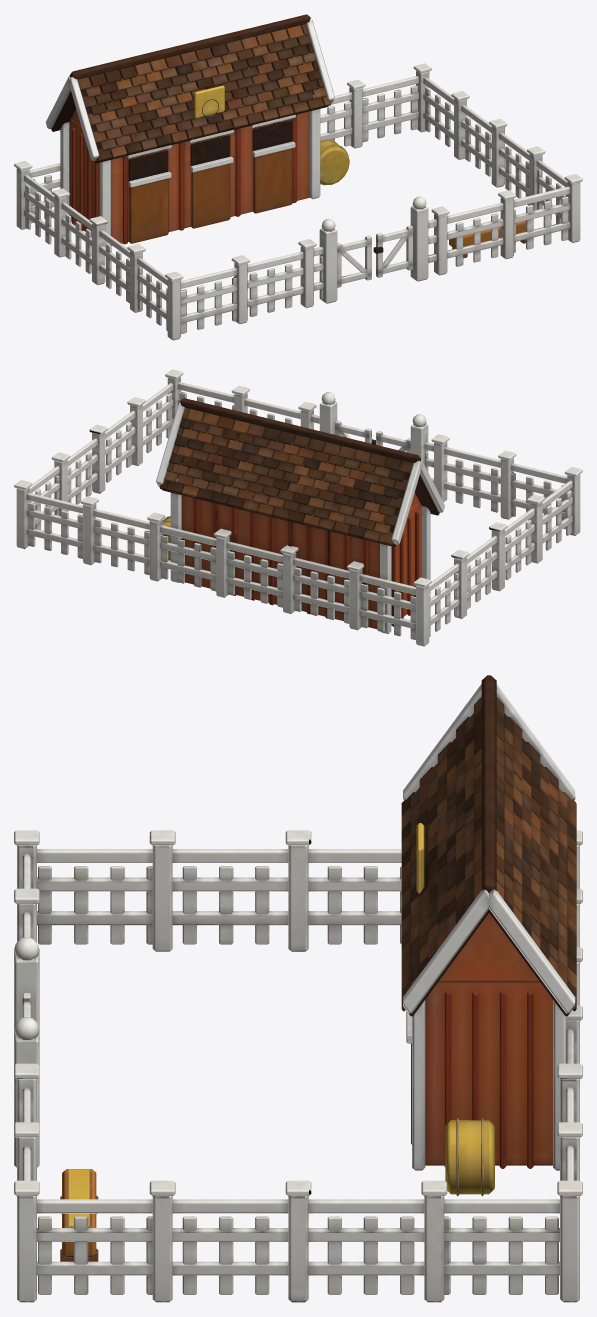
File: appaloosa_stable.glb
3 views of the same model, one above another, from view 1: azimuth 30°, elevation 25°; view 2: azimuth 150°, elevation 25°; view 3: azimuth 270°, elevation 25° (orthographic). The views are drawn at different scales.
Visible parts, largest first — view 1: appaloosa_stable, gate1, gate0; view 2: appaloosa_stable, gate1, gate0; view 3: appaloosa_stable.
Part boxes in pixels (x1,y1,x2,y2): appaloosa_stable: (14, 14, 582, 340); gate1: (373, 225, 413, 277); gate0: (337, 235, 371, 287); appaloosa_stable: (14, 369, 582, 646); gate1: (334, 420, 375, 444); gate0: (376, 431, 410, 453); appaloosa_stable: (14, 675, 582, 1302).
Bounding box in the file's own units: 2.99 × 1.16 × 1.99.
Materials: 1 (1 with a texture image).
